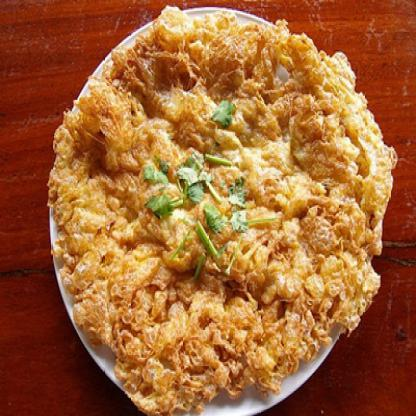Omelette: (51, 25, 394, 415)
